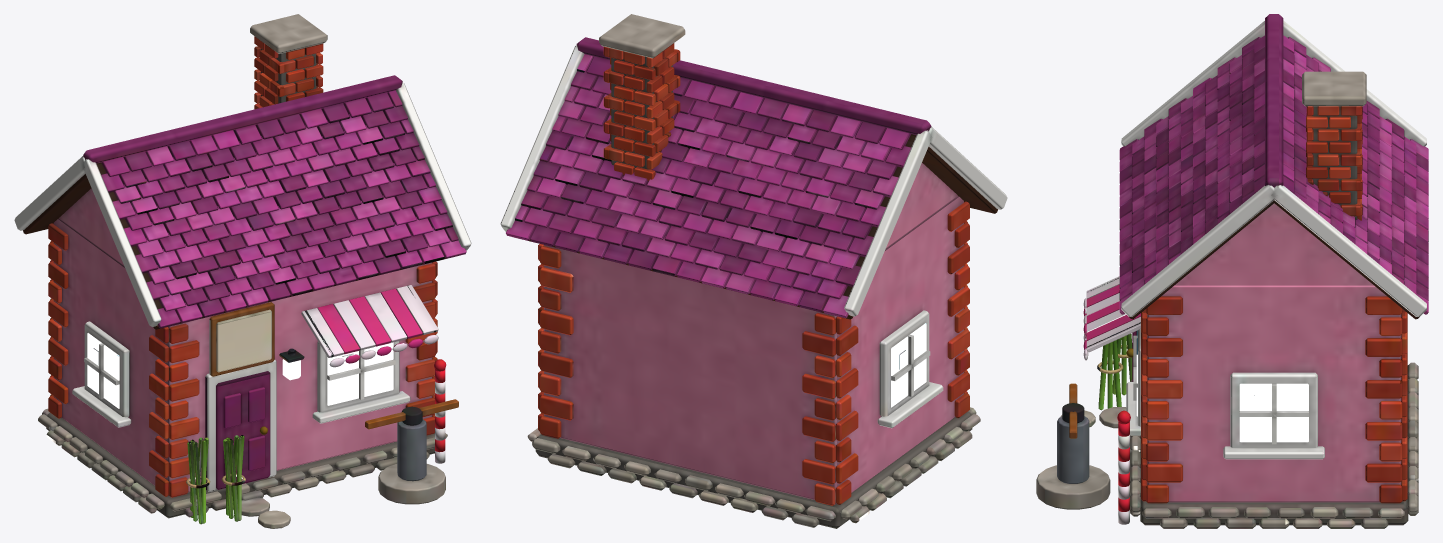
The model's file is sugar_mill.glb.
3 renders of one model, left to right at view 1: azimuth 30°, elevation 25°; view 2: azimuth 150°, elevation 25°; view 3: azimuth 270°, elevation 25°, orthographic. The views are drawn at different scales.
Visible parts, largest first — view 1: sugar_mill, spinY_sweep; view 2: sugar_mill; view 3: sugar_mill, spinY_sweep.
Boxes of the visible parts, x1=… form: sugar_mill: x1=14, y1=14, x2=471, y2=528; spinY_sweep: x1=365, y1=399, x2=458, y2=429; sugar_mill: x1=500, y1=14, x2=1007, y2=528; sugar_mill: x1=1036, y1=14, x2=1428, y2=528; spinY_sweep: x1=1062, y1=383, x2=1084, y2=438.
Size of the model in its own units: 1.74 by 1.95 by 1.7.
Materials: 1 (1 with a texture image).
